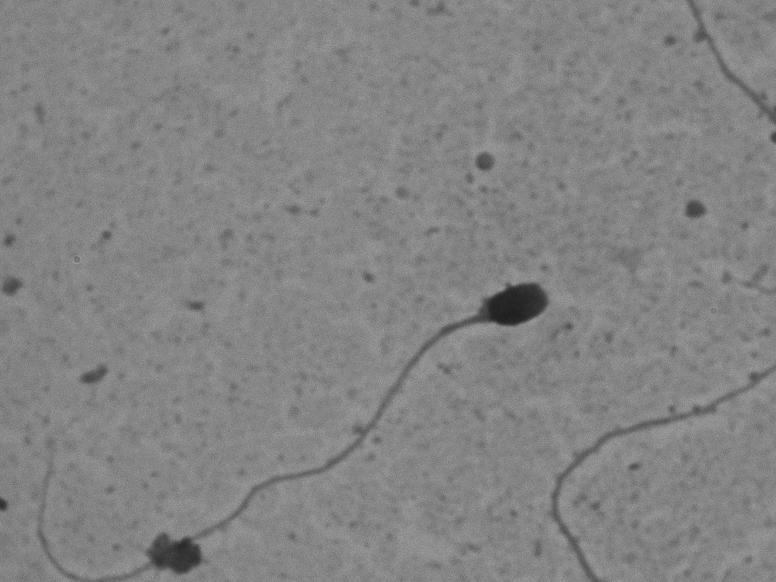Normal: (22, 270, 551, 579)
